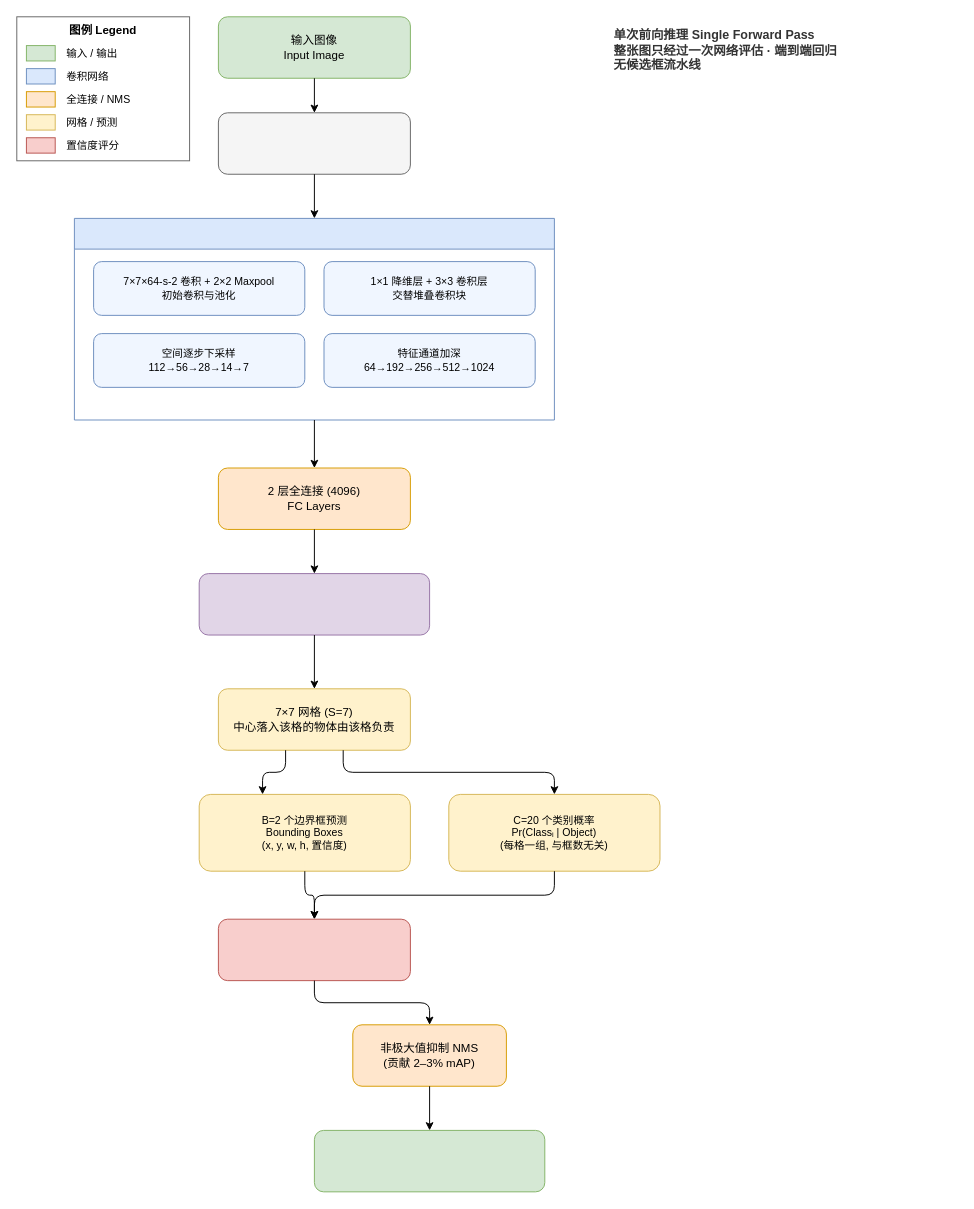
Image size: 974x1209. Some labels were removed from this diagram. Each missing label, with the box of its shape:
24 层卷积网络 · Conv Layers 1×1 降维 + 3×3 卷积 (受 GoogLeNet 启发): (73, 217, 554, 420)
7×7×30 预测张量 Prediction Tensor (S=7 · B=2 · C=20): (198, 573, 430, 635)
图像缩放至 448 × 448 Resize Image: (217, 112, 410, 174)
最终检测结果 Final Detections (每图 98 框): (313, 1129, 545, 1192)
类别条件置信度评分 Pr(Class|Object) × Confidence: (217, 918, 410, 981)
